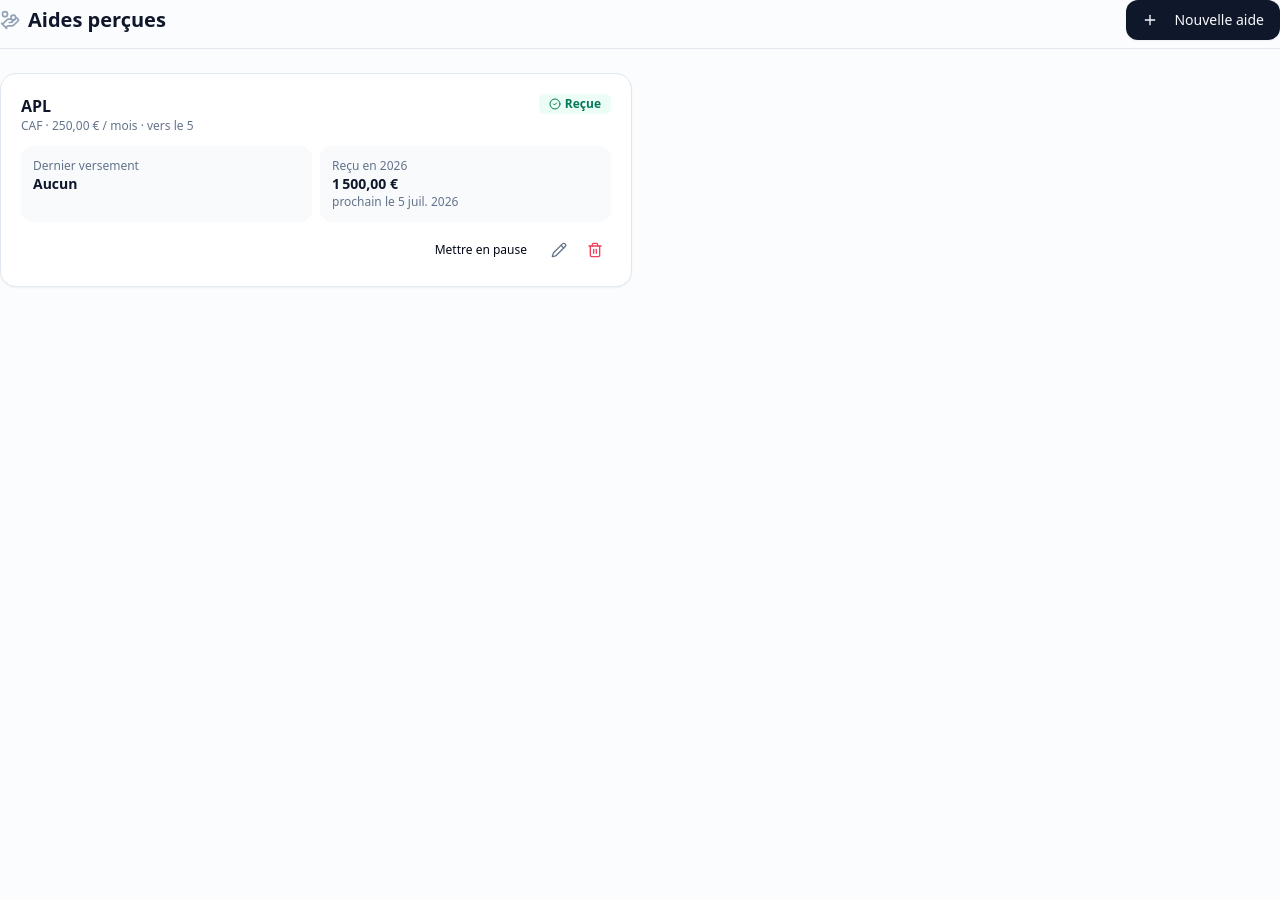
Scenario: BenefitsSection › modifie une aide existante par PATCH
The image size is (1280, 900).
Click the button titled "Modifier": [559, 250] box [543,234,575,266]
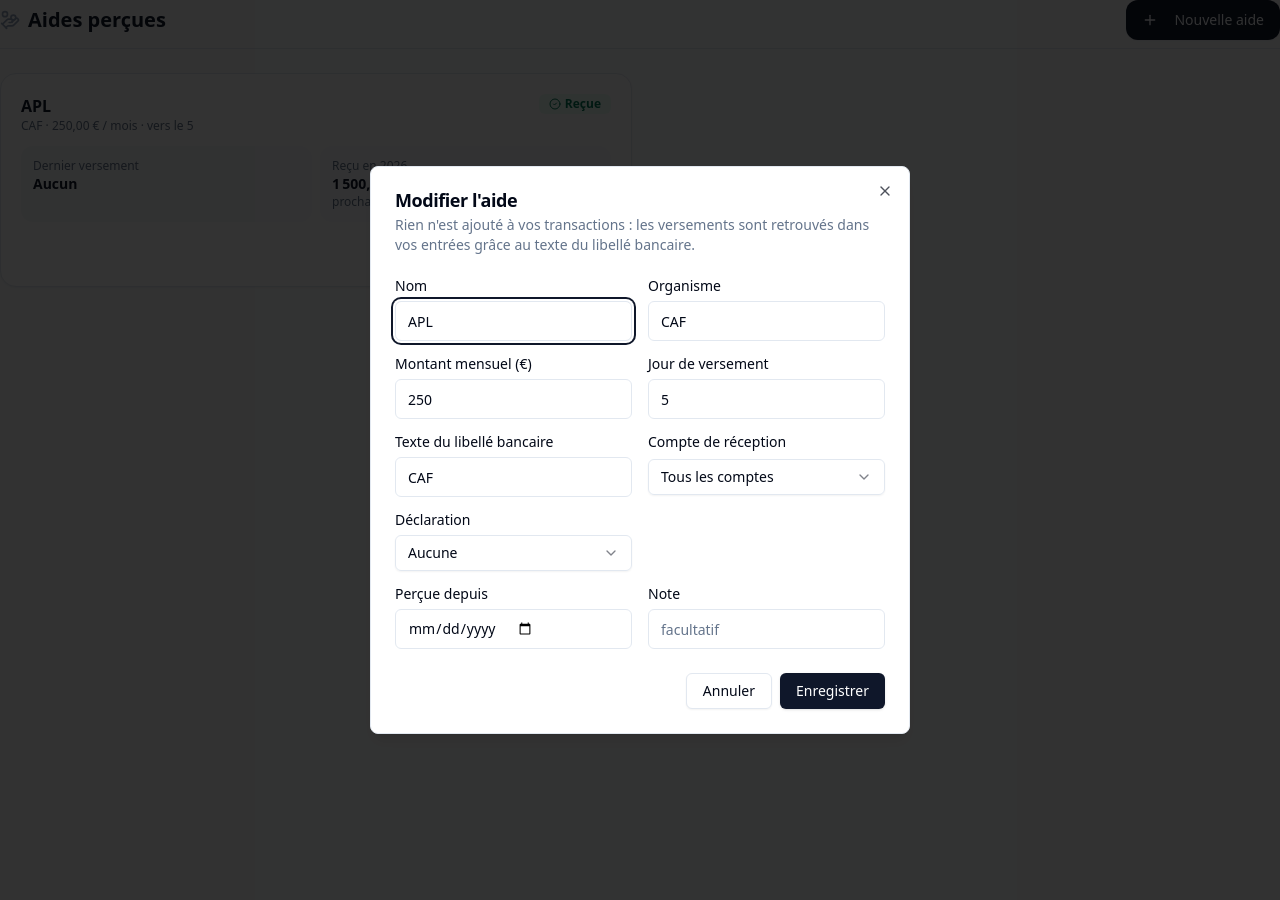
Now the field labelled "Montant mensuel (€)" holds "250"
In the field labelled "Montant mensuel (€)": [514, 399] box [395,379,632,419], type "260"
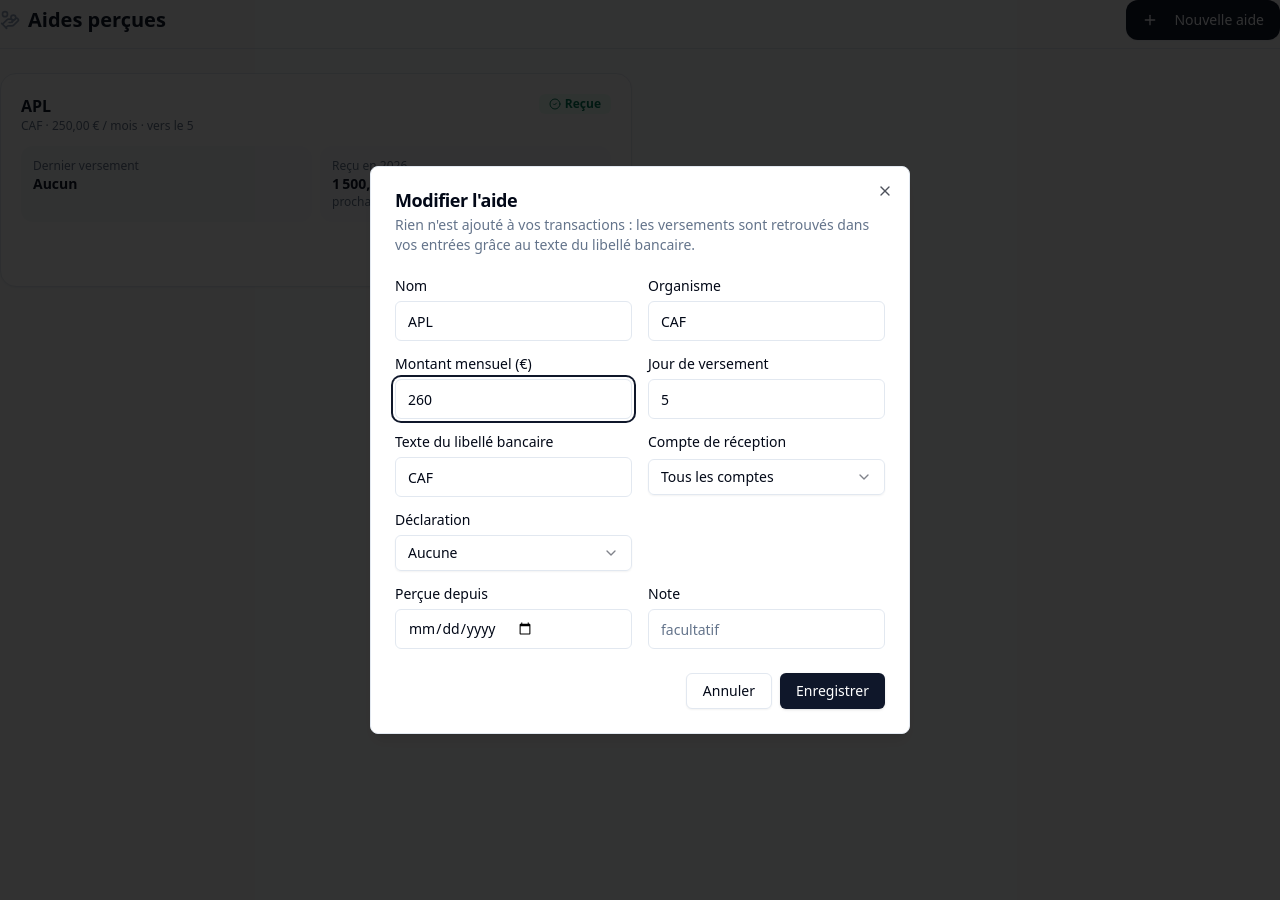
Click the button "Enregistrer": [832, 691] box [780,673,885,709]
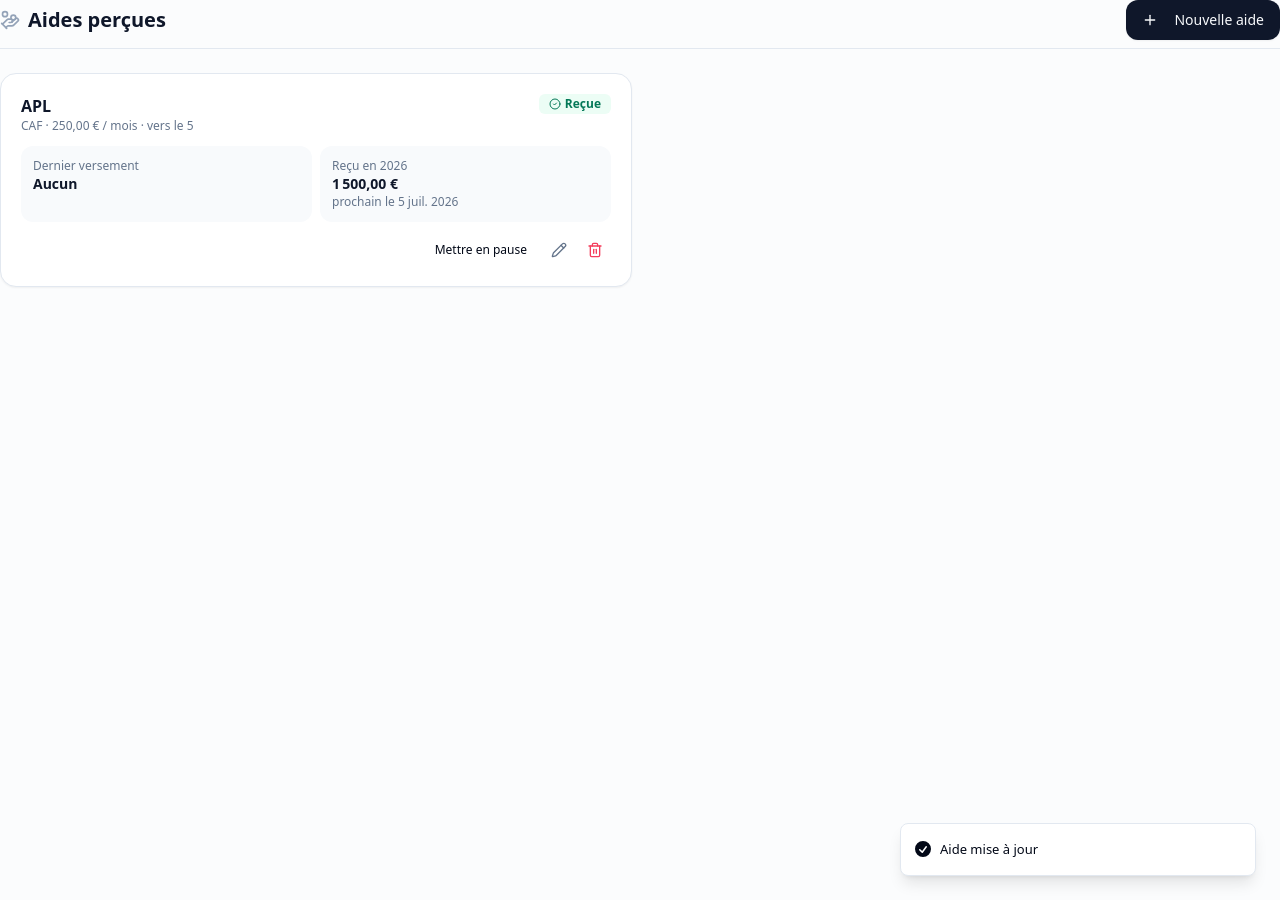
Now the text "Aide mise à jour" is shown, box [940,840,1038,859]
